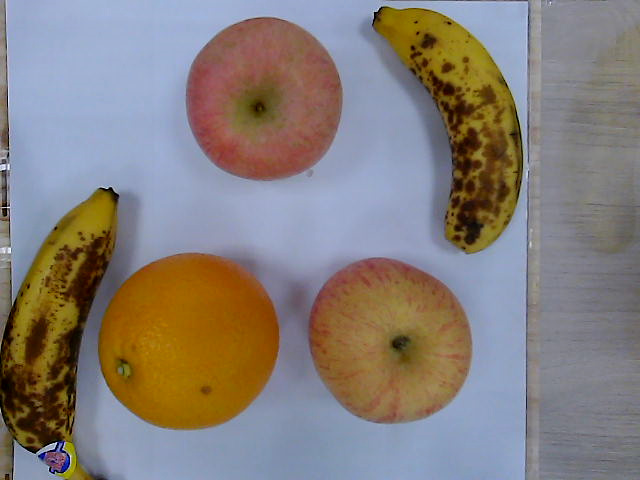fresh_apple: (311, 260, 471, 423), (187, 17, 344, 180)
fresh_orange: (100, 252, 280, 429)
rotten_banana: (373, 6, 525, 254), (1, 189, 117, 480)
